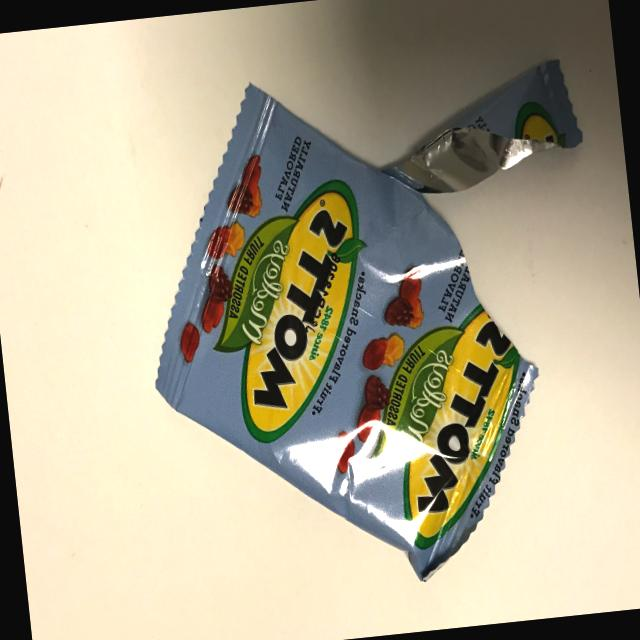Plastic: (116, 6, 630, 634)
